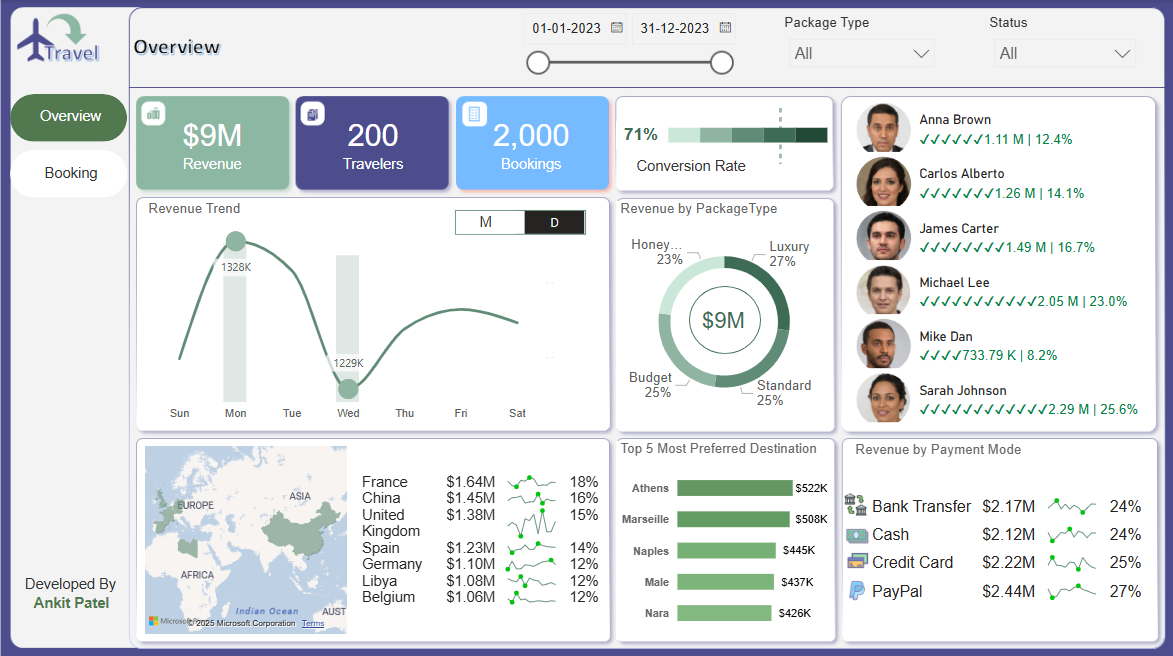

What the dashboard file says about the page in this screenshot:
{"tool":"powerbi","page":{"name":"Overview","canvas":[1280,720],"ordinal":0},"visuals":[{"type":"donutChart","fields":{"Category":["Bookings.PackageType"],"Y":["Measures Table.Revenue"]},"box":[672.3,219.4,236.1,247.7],"z":0},{"type":"barChart","fields":{"Y":["Gauge Chart.GC1","Gauge Chart.GC2","Gauge Chart.GC3","Gauge Chart.GC4","Gauge Chart.GC5"]},"box":[672.2,104.8,235.7,78.6],"z":1000},{"type":"card","fields":{"Values":["Measures Table.Revenue"]},"box":[152.3,104.5,157.4,100.6],"z":2000},{"type":"card","fields":{"Values":["Measures Table.Travelers"]},"box":[328.5,104.8,157.1,100.4],"z":3000},{"type":"card","fields":{"Values":["Measures Table.Bookings"]},"box":[496.5,104.8,165.9,100.4],"z":4000},{"type":"card","fields":{"Values":["Measures Table.Conversion Rate"]},"box":[672.2,132,54.6,31.6],"z":5000},{"type":"actionButton","title":"Conversion Rate","box":[686.5,172.9,135.5,20.6],"z":6000},{"type":"lineStackedColumnComboChart","fields":{"Category":["Calendar Table.Day"],"Y":["Measures Table.Min_Max Revenue Daily Bar"],"Y2":["Measures Table.Revenue","Measures Table.Min_Max Revenue Daily"]},"box":[152.3,229.7,509.7,237.4],"z":7000},{"type":"bookmarkNavigator","box":[496.8,229.7,143.2,27.1],"z":9000},{"type":"actionButton","title":"Revenue Trend","box":[152.3,219.4,118.7,19.4],"z":10000},{"type":"shape","box":[751.8,312.1,78.6,74.2],"z":11000},{"type":"card","fields":{"Values":["Measures Table.Revenue"]},"box":[755.1,326.3,68.7,48],"z":12000},{"type":"filledMap","fields":{"Category":["Customers.Country"]},"box":[152.8,481.2,231.3,216.1],"z":12001},{"type":"tableEx","fields":{"Values":["Customers.Country","Measures Table.Revenue","SparklineData(Measures Table.Revenue_[Calendar Table.Month no])","Measures Table.Revenue 2"]},"box":[384.1,492.1,288.1,188.8],"z":12002},{"type":"barChart","title":"Top 5 Most Preferred Destination","fields":{"Y":["Measures Table.Revenue"],"Category":["Destinations.DestinationName"]},"box":[672.5,481.4,235.6,216.5],"z":12003},{"type":"advancedSlicerVisual","fields":{"Values":["Agent_img.AgentName"]},"box":[923.9,104.5,356.1,362.6],"z":12004},{"type":"actionButton","box":[33.8,632.9,133.1,87.3],"z":12005},{"type":"tableEx","fields":{"Values":["PaymentMode.Payment Mode","Measures Table.Revenue","SparklineData(Measures Table.Revenue_[Calendar Table.Month no])","Measures Table.Revenue 2"]},"box":[940.6,517.4,322.6,179.4],"z":12006},{"type":"image","box":[916.1,532.9,33.5,36.1],"z":12007},{"type":"image","box":[916.6,568.5,37.1,33.8],"z":12008},{"type":"image","box":[916.6,628.5,38.2,31.6],"z":12009},{"type":"image","box":[910.1,594.7,52.4,33.8],"z":12010},{"type":"actionButton","title":"Revenue by Payment Mode","box":[924.3,482.3,199.7,19.6],"z":12011},{"type":"slicer","fields":{"Values":["Calendar Table.Date"]},"box":[558.7,4.4,249.9,82.9],"z":12012},{"type":"slicer","title":"Package Type","fields":{"Values":["Bookings.PackageType"]},"box":[851.2,16.4,179,66.6],"z":12013},{"type":"slicer","title":"Status","fields":{"Values":["Bookings.PackageType","Bookings.Status"]},"box":[1074.9,16.4,174.6,66.6],"z":12014}]}

Visuals, with their boxes in screenshot pixels (x1, y1, x2, y2), scaled from the page's 1280x720 canvas onto the 1173x656 screenshot:
donutChart - Bookings.PackageType x Measures Table.Revenue: rect(616, 200, 832, 426)
barChart - Gauge Chart.GC1 x Gauge Chart.GC2: rect(616, 95, 832, 167)
card - Measures Table.Revenue: rect(140, 95, 284, 187)
card - Measures Table.Travelers: rect(301, 95, 445, 187)
card - Measures Table.Bookings: rect(455, 95, 607, 187)
card - Measures Table.Conversion Rate: rect(616, 120, 666, 149)
"Conversion Rate" actionButton: rect(629, 158, 753, 176)
lineStackedColumnComboChart - Calendar Table.Day x Measures Table.Min_Max Revenue Daily Bar: rect(140, 209, 607, 426)
bookmarkNavigator: rect(455, 209, 586, 234)
"Revenue Trend" actionButton: rect(140, 200, 248, 218)
shape: rect(689, 284, 761, 352)
card - Measures Table.Revenue: rect(692, 297, 755, 341)
filledMap - Customers.Country: rect(140, 438, 352, 635)
tableEx - Customers.Country x Measures Table.Revenue: rect(352, 448, 616, 620)
"Top 5 Most Preferred Destination" barChart: rect(616, 439, 832, 636)
advancedSlicerVisual - Agent_img.AgentName: rect(847, 95, 1172, 426)
actionButton: rect(31, 577, 153, 655)
tableEx - PaymentMode.Payment Mode x Measures Table.Revenue: rect(862, 471, 1158, 635)
image: rect(840, 486, 870, 518)
image: rect(840, 518, 874, 549)
image: rect(840, 573, 875, 601)
image: rect(834, 542, 882, 573)
"Revenue by Payment Mode" actionButton: rect(847, 439, 1030, 457)
slicer - Calendar Table.Date: rect(512, 4, 741, 80)
"Package Type" slicer: rect(780, 15, 944, 76)
"Status" slicer: rect(985, 15, 1145, 76)
